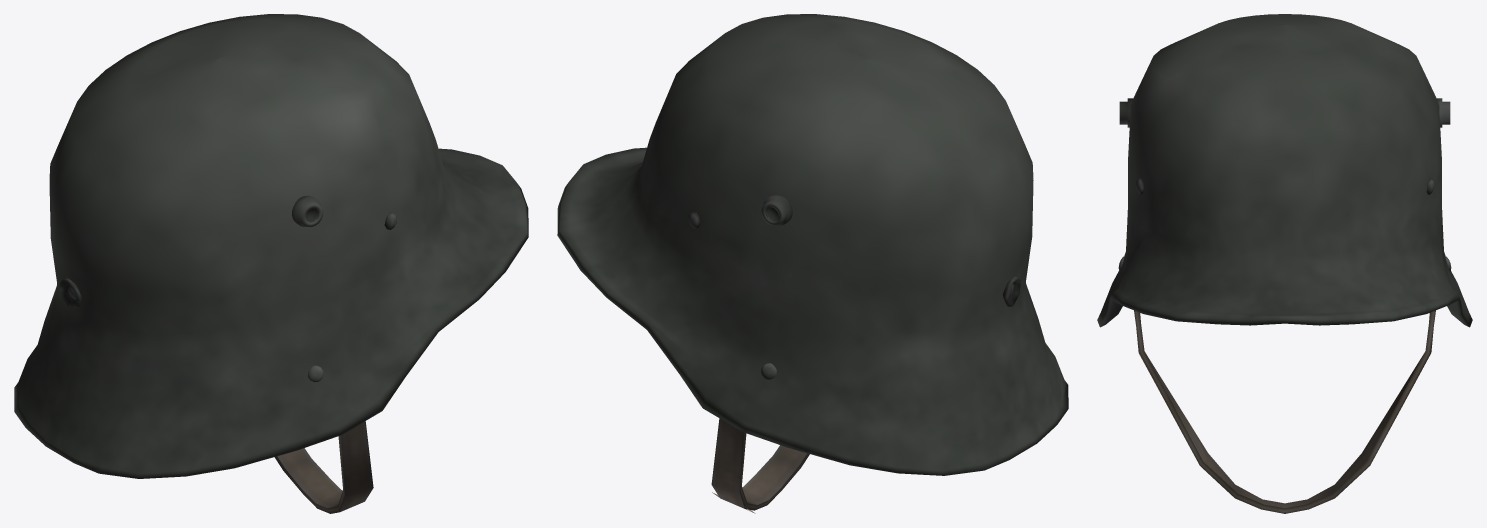
Rendered from stahlhelm.glb.
3 views of the same model, side by side, from view 1: azimuth 30°, elevation 25°; view 2: azimuth 150°, elevation 25°; view 3: azimuth 270°, elevation 25° (orthographic). The views are drawn at different scales.
Parts seen in each view (by area): view 1: Cylinder; view 2: Cylinder; view 3: Cylinder.
Part boxes in pixels (x1,y1,x2,y2): Cylinder: (14, 14, 528, 513); Cylinder: (557, 14, 1068, 513); Cylinder: (1097, 14, 1472, 513).
Size of the model in its own units: 6.04 by 6.03 by 4.61.
Materials: 1 (1 with a texture image).
